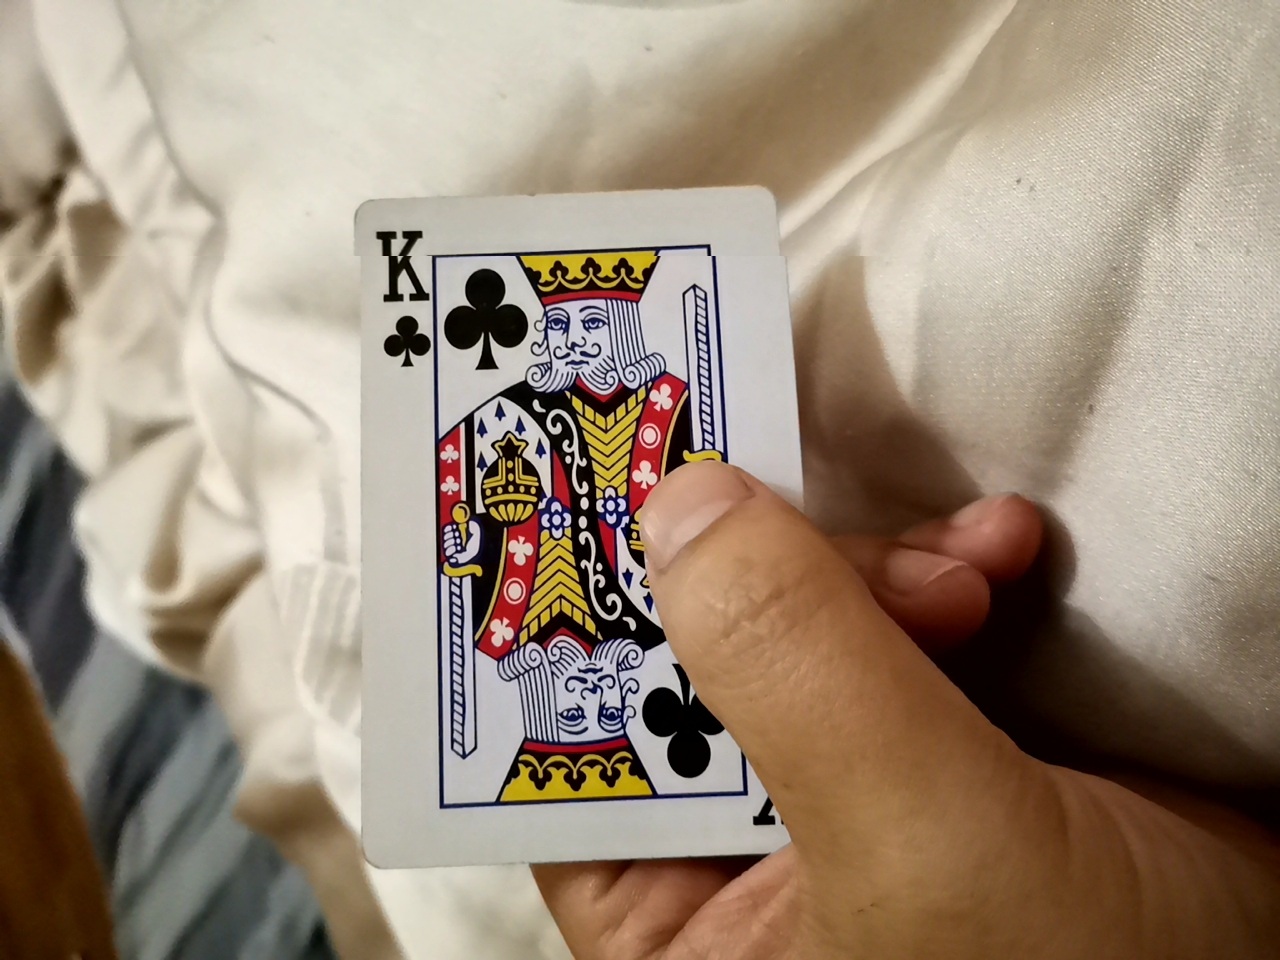mh k: (357, 171, 818, 918)
